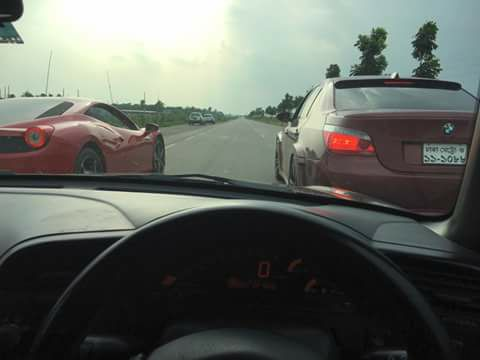registration_plate: (421, 143, 468, 165)
